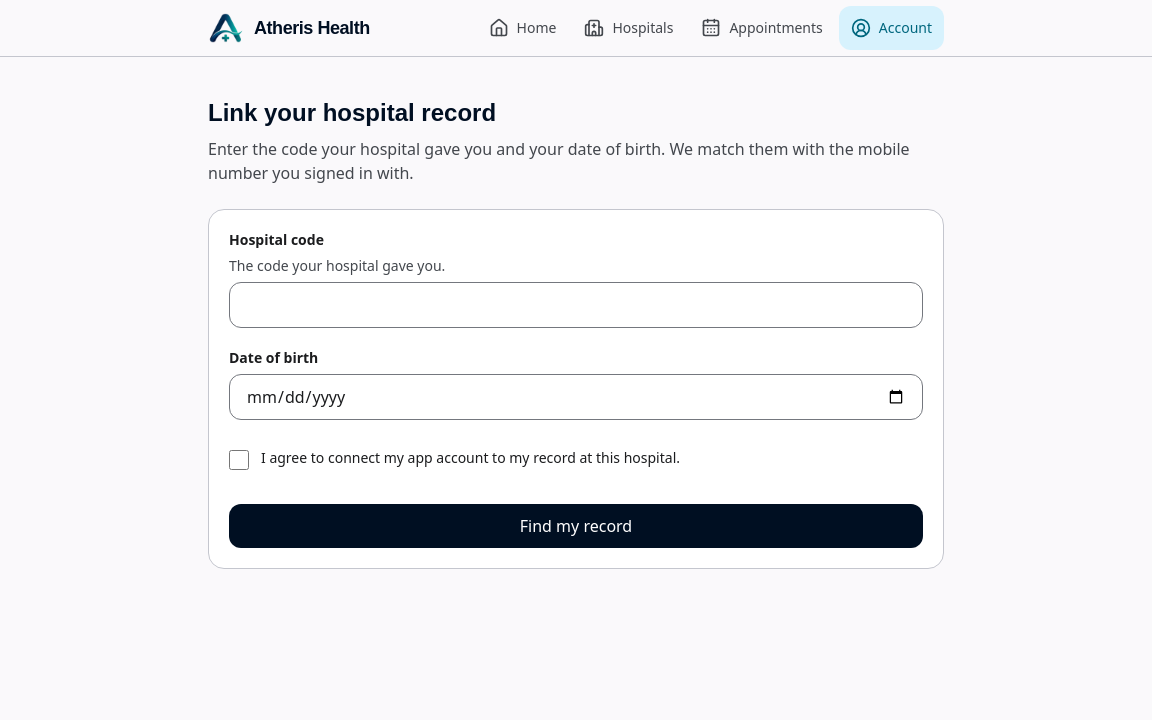
Test: link a hospital record › MRN REQUIRED then success — asks for the MRN only after the server does, then links with it
Check: the field labelled "MRN" is not shown
In the field labelled "Hospital code": {"x": 576, "y": 305} [229,282,923,328], type "city-care"
In the date field labelled "Date of birth": {"x": 576, "y": 397} [229,374,923,420], type "1990-05-17"
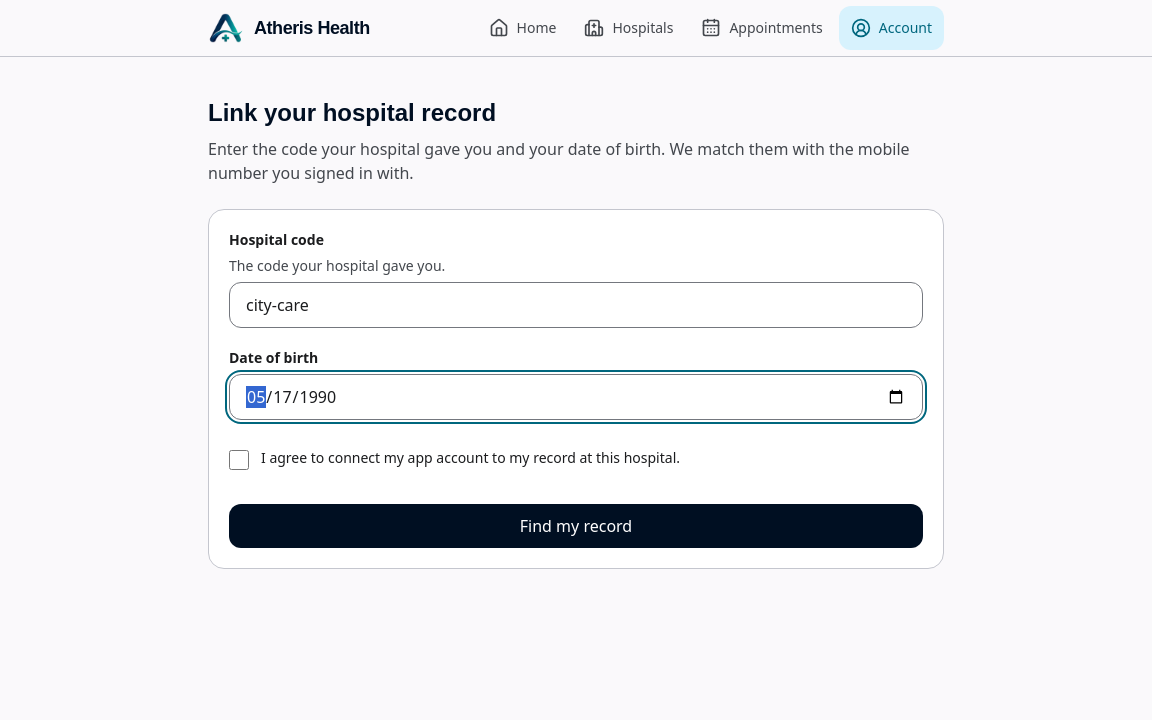
Click the checkbox: {"x": 239, "y": 460} [229,450,249,470]
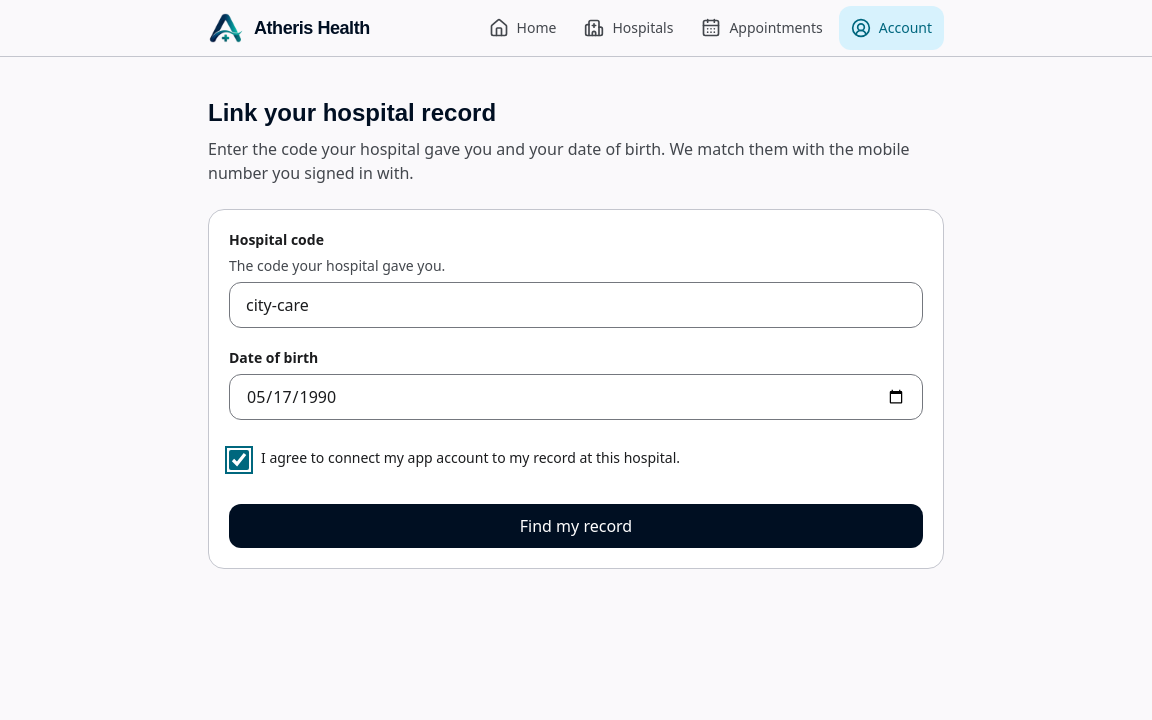
Click the button "Find my record": {"x": 576, "y": 526} [229,504,923,548]
(page scrolled)
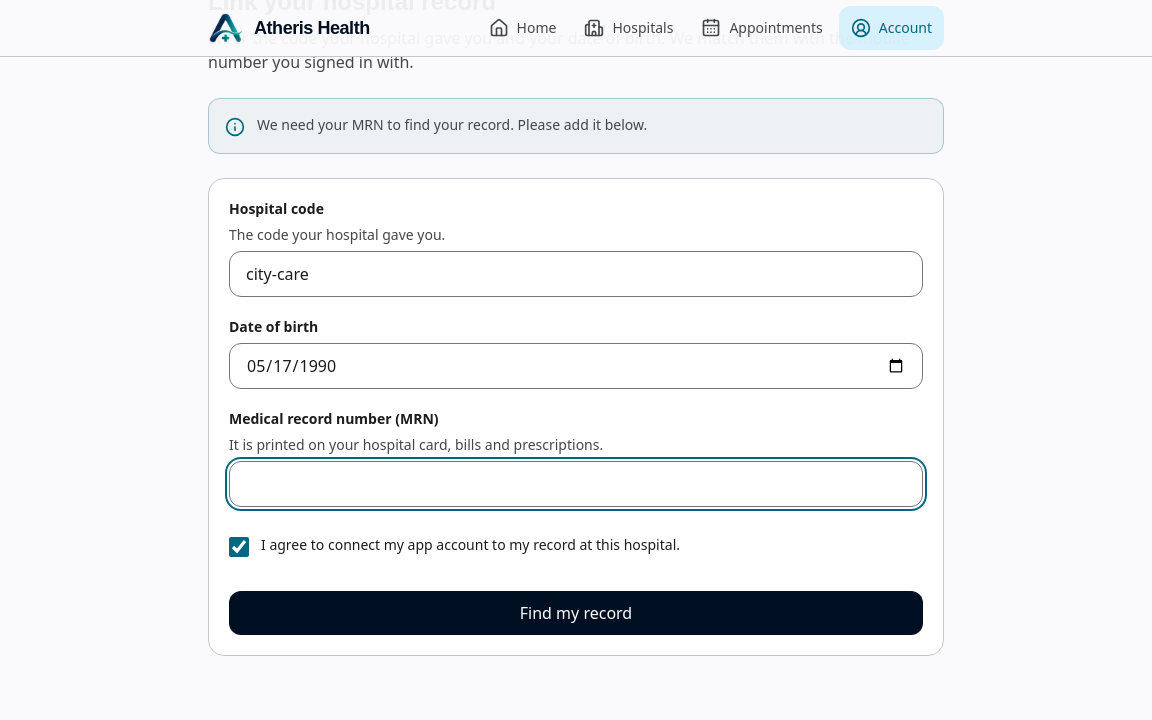
Check: the text "We need your MRN to find your record. Please add it below." is shown, box [257,115,647,134]
Click the button "Find my record": {"x": 576, "y": 613} [229,591,923,635]
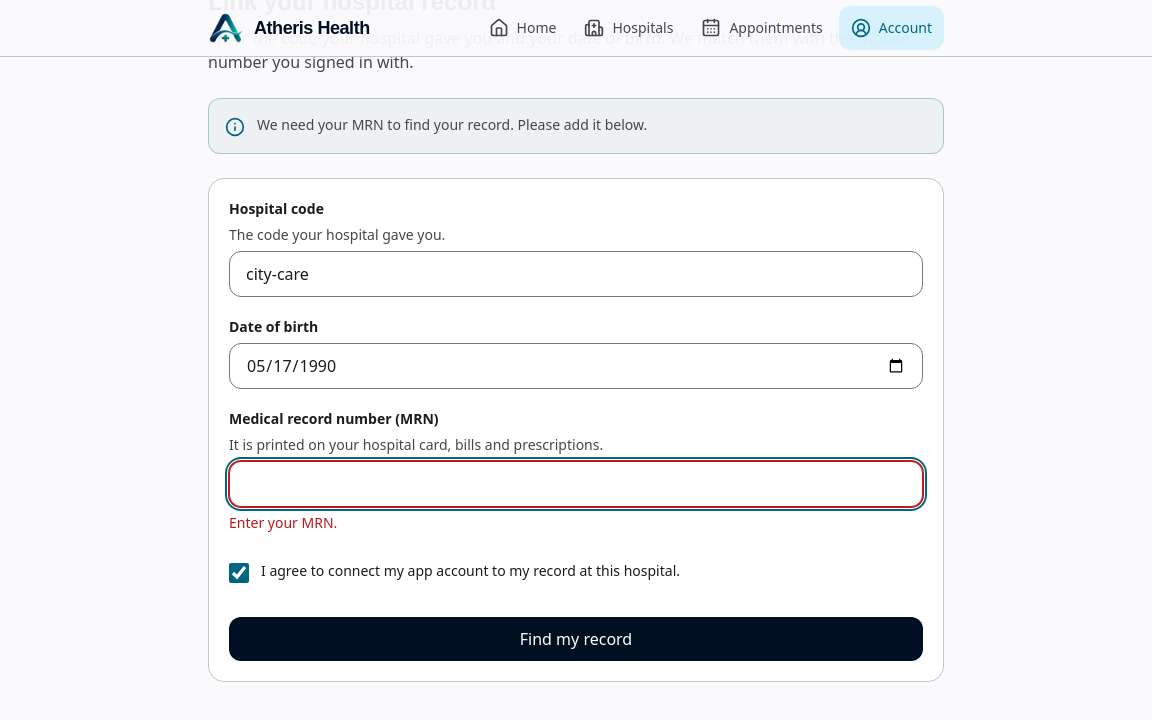
Check: the text "Enter your MRN." is shown, box [229,513,337,532]
In the field labelled "Medical record number (MRN)": {"x": 576, "y": 484} [229,461,923,507], type "MRN-00042"
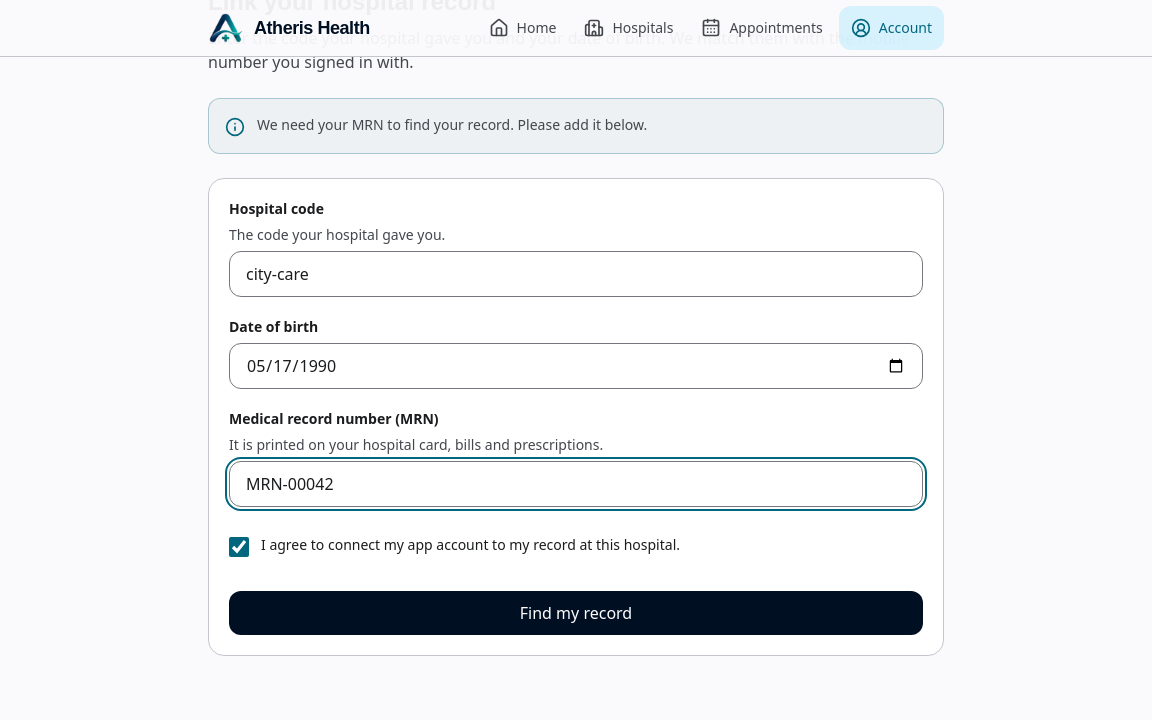
Click the button "Find my record": {"x": 576, "y": 613} [229,591,923,635]
(page scrolled)
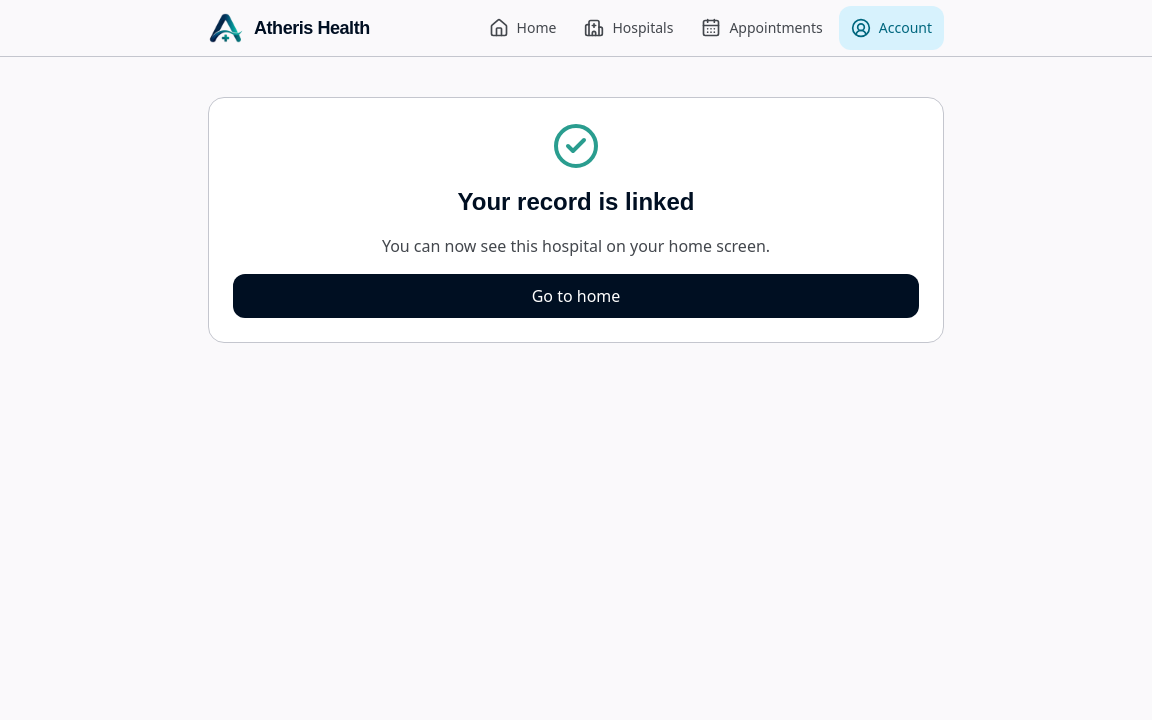
Check: the heading "Your record is linked" is shown, box [458,188,694,215]
